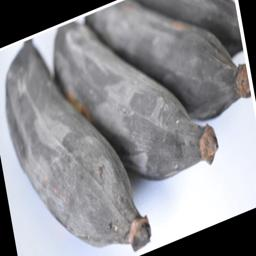Banana Rotten: (11, 12, 211, 254)
